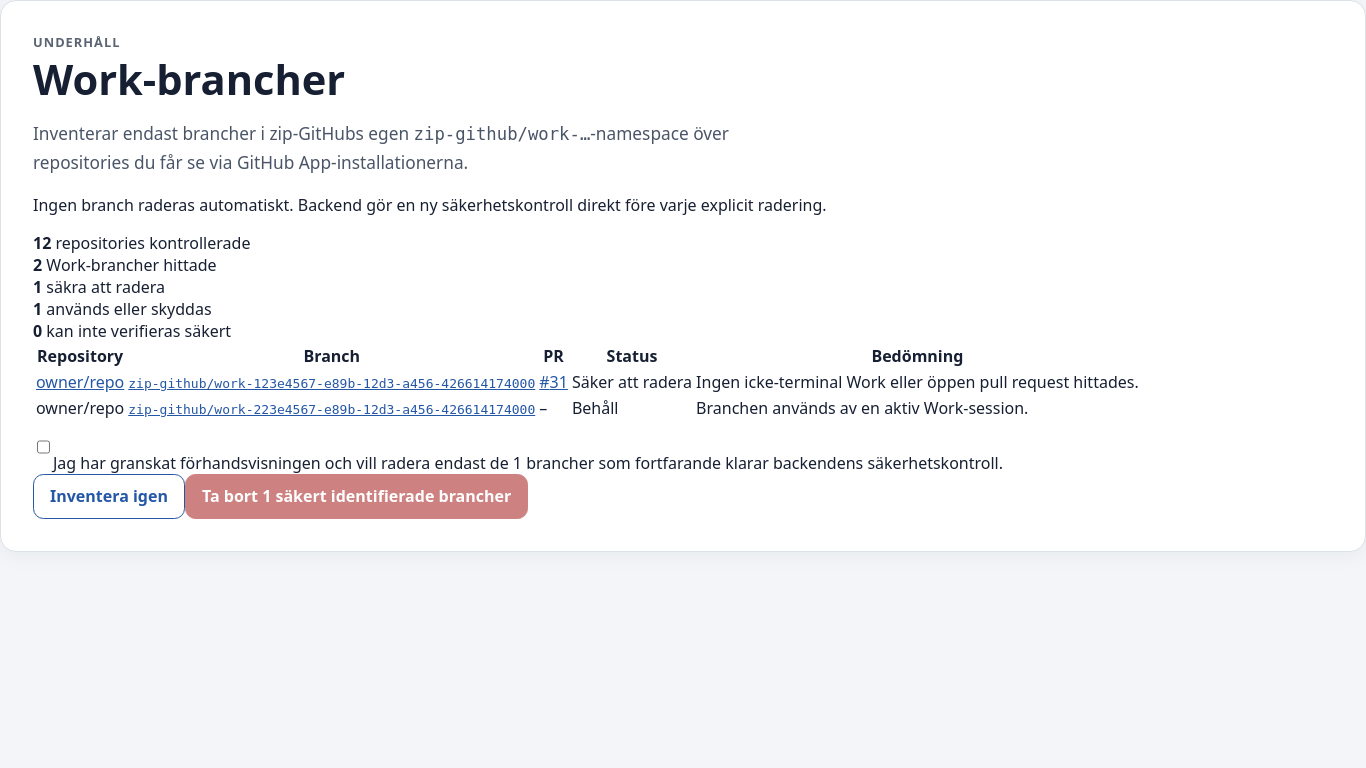
Test: shows reconciled navigation metadata and deletes only explicitly safe candidates
Expected: the text "12" is shown, [33, 232, 51, 254]
Expected: the text "Branchen används av en aktiv Work-session." is shown, [695, 396, 1140, 420]
Click the checkbox at (44, 447), box [37, 425, 50, 469]
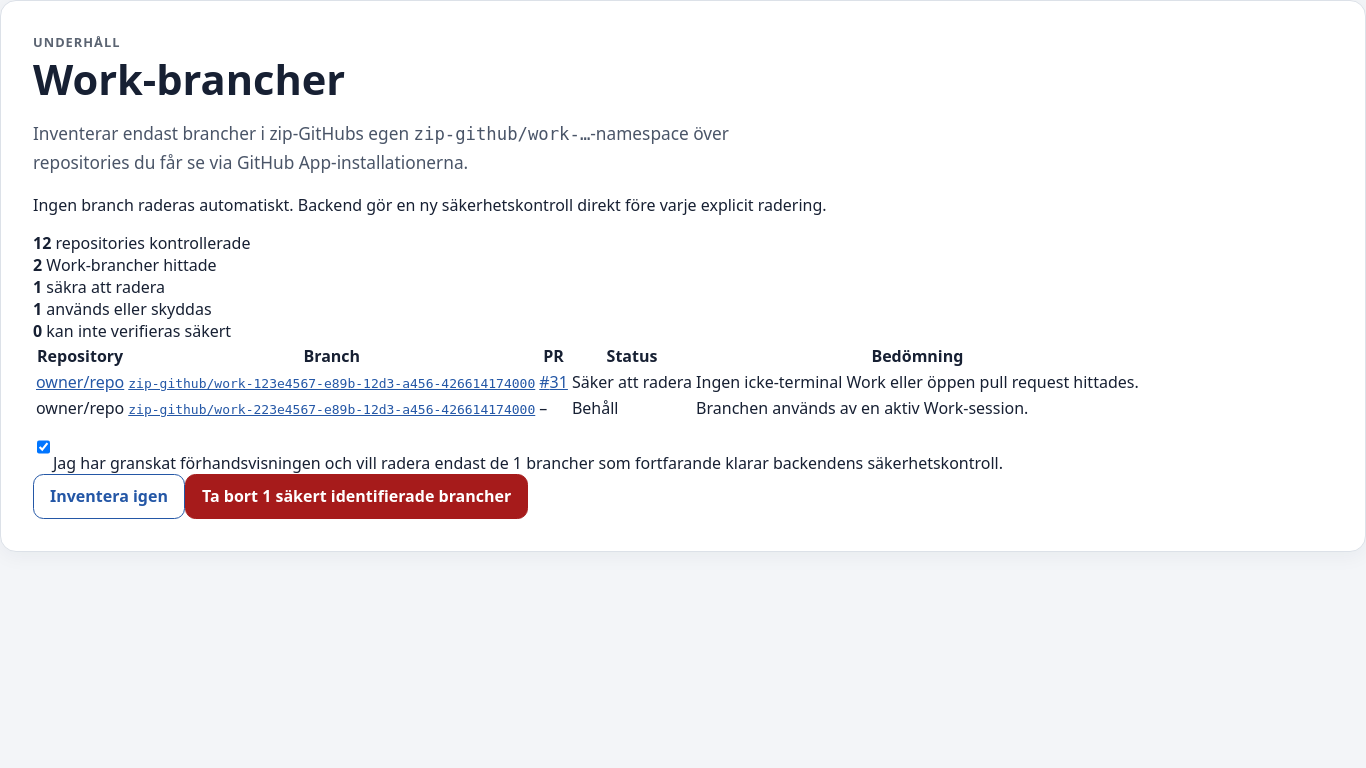
Result: the button "Ta bort 1 säkert identifierade brancher" is enabled
Click the button "Ta bort 1 säkert identifierade brancher" at (357, 496), box [185, 474, 528, 519]
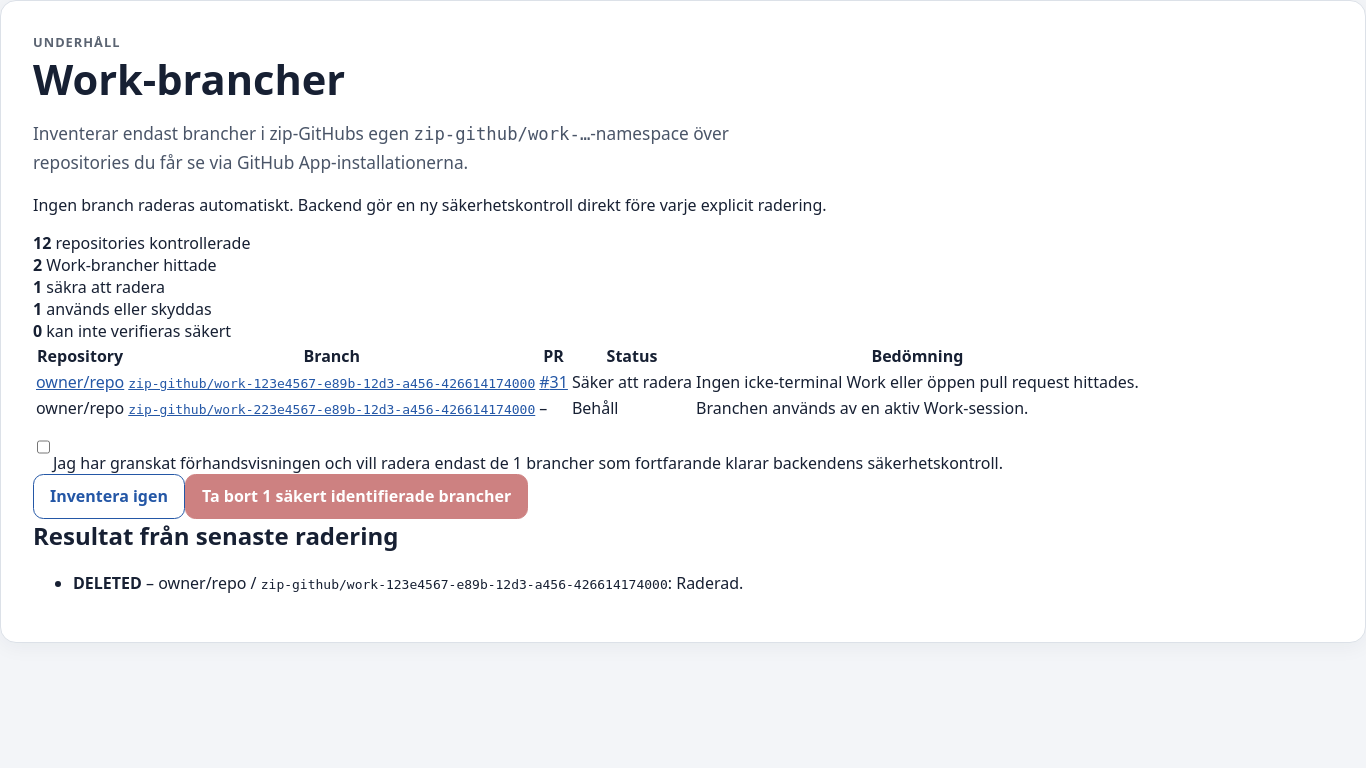
Result: the text "DELETED" is shown at [73, 572, 142, 594]
